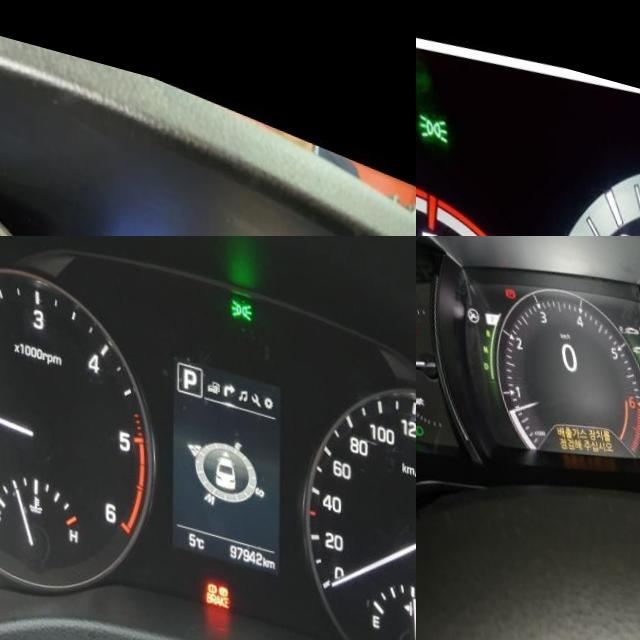Low beam: (416, 416, 422, 432)
SideLamp: (416, 99, 447, 133), (230, 276, 251, 304)
